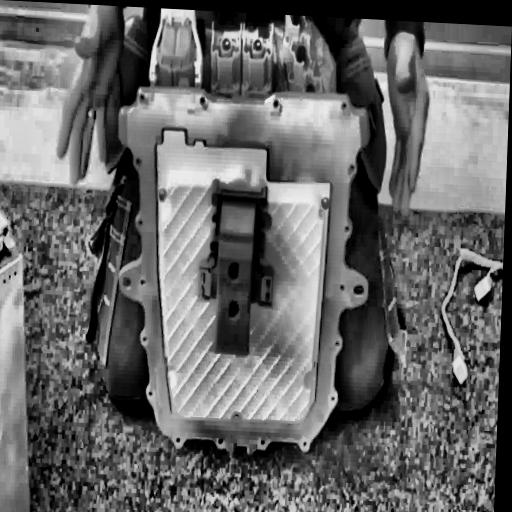bms_unit: (105, 6, 374, 480)
connector: (195, 180, 277, 360)
